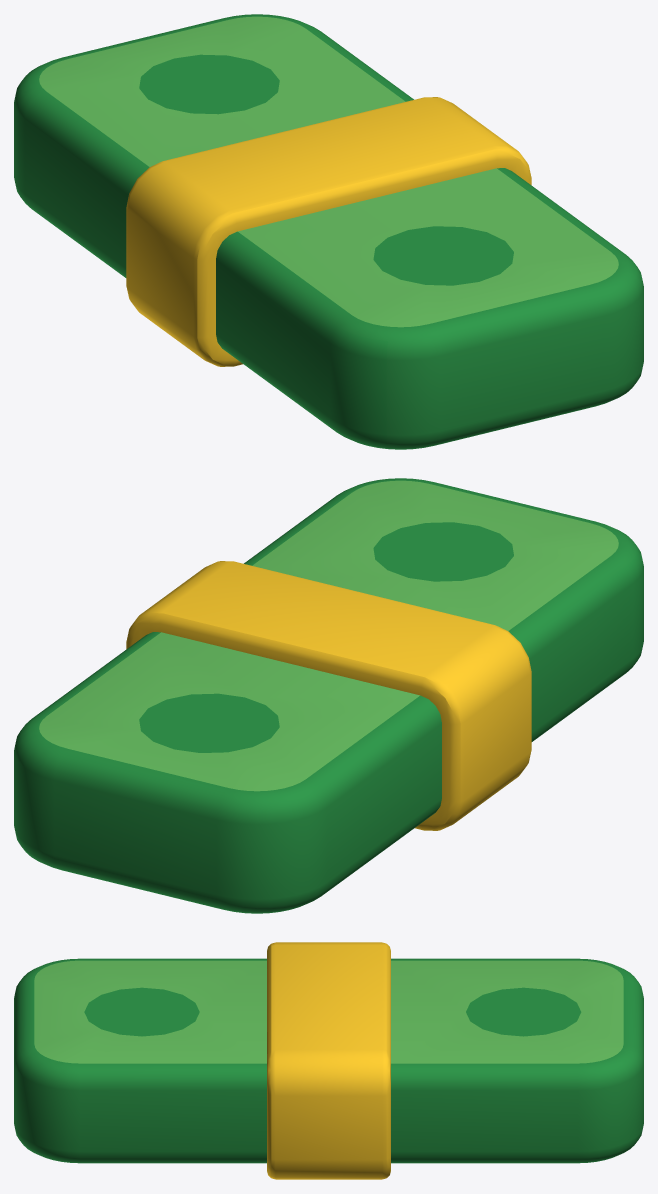
Rendered from para (2).fbx.
3 renders of one model, top to bottom at view 1: azimuth 30°, elevation 25°; view 2: azimuth 150°, elevation 25°; view 3: azimuth 270°, elevation 25°, orthographic. The views are drawn at different scales.
Parts seen in each view (by area): view 1: Cube; view 2: Cube; view 3: Cube.
Boxes of the visible parts, x1=… form: Cube: x1=14, y1=14, x2=643, y2=449; Cube: x1=14, y1=478, x2=643, y2=913; Cube: x1=14, y1=942, x2=643, y2=1179.
Size of the model in its own units: 3.3 by 1.46 by 6.57.
